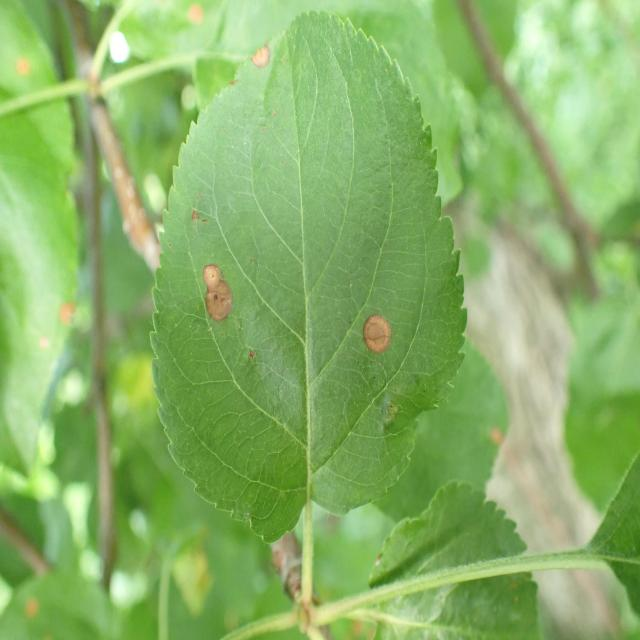Black Rot: (190, 261, 250, 338), (360, 303, 400, 367), (242, 30, 292, 77)
